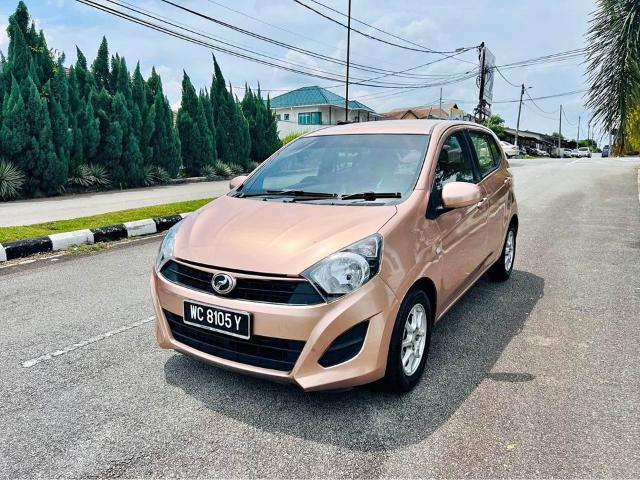License_Plate: (179, 300, 258, 334)
car: (144, 120, 524, 401)
